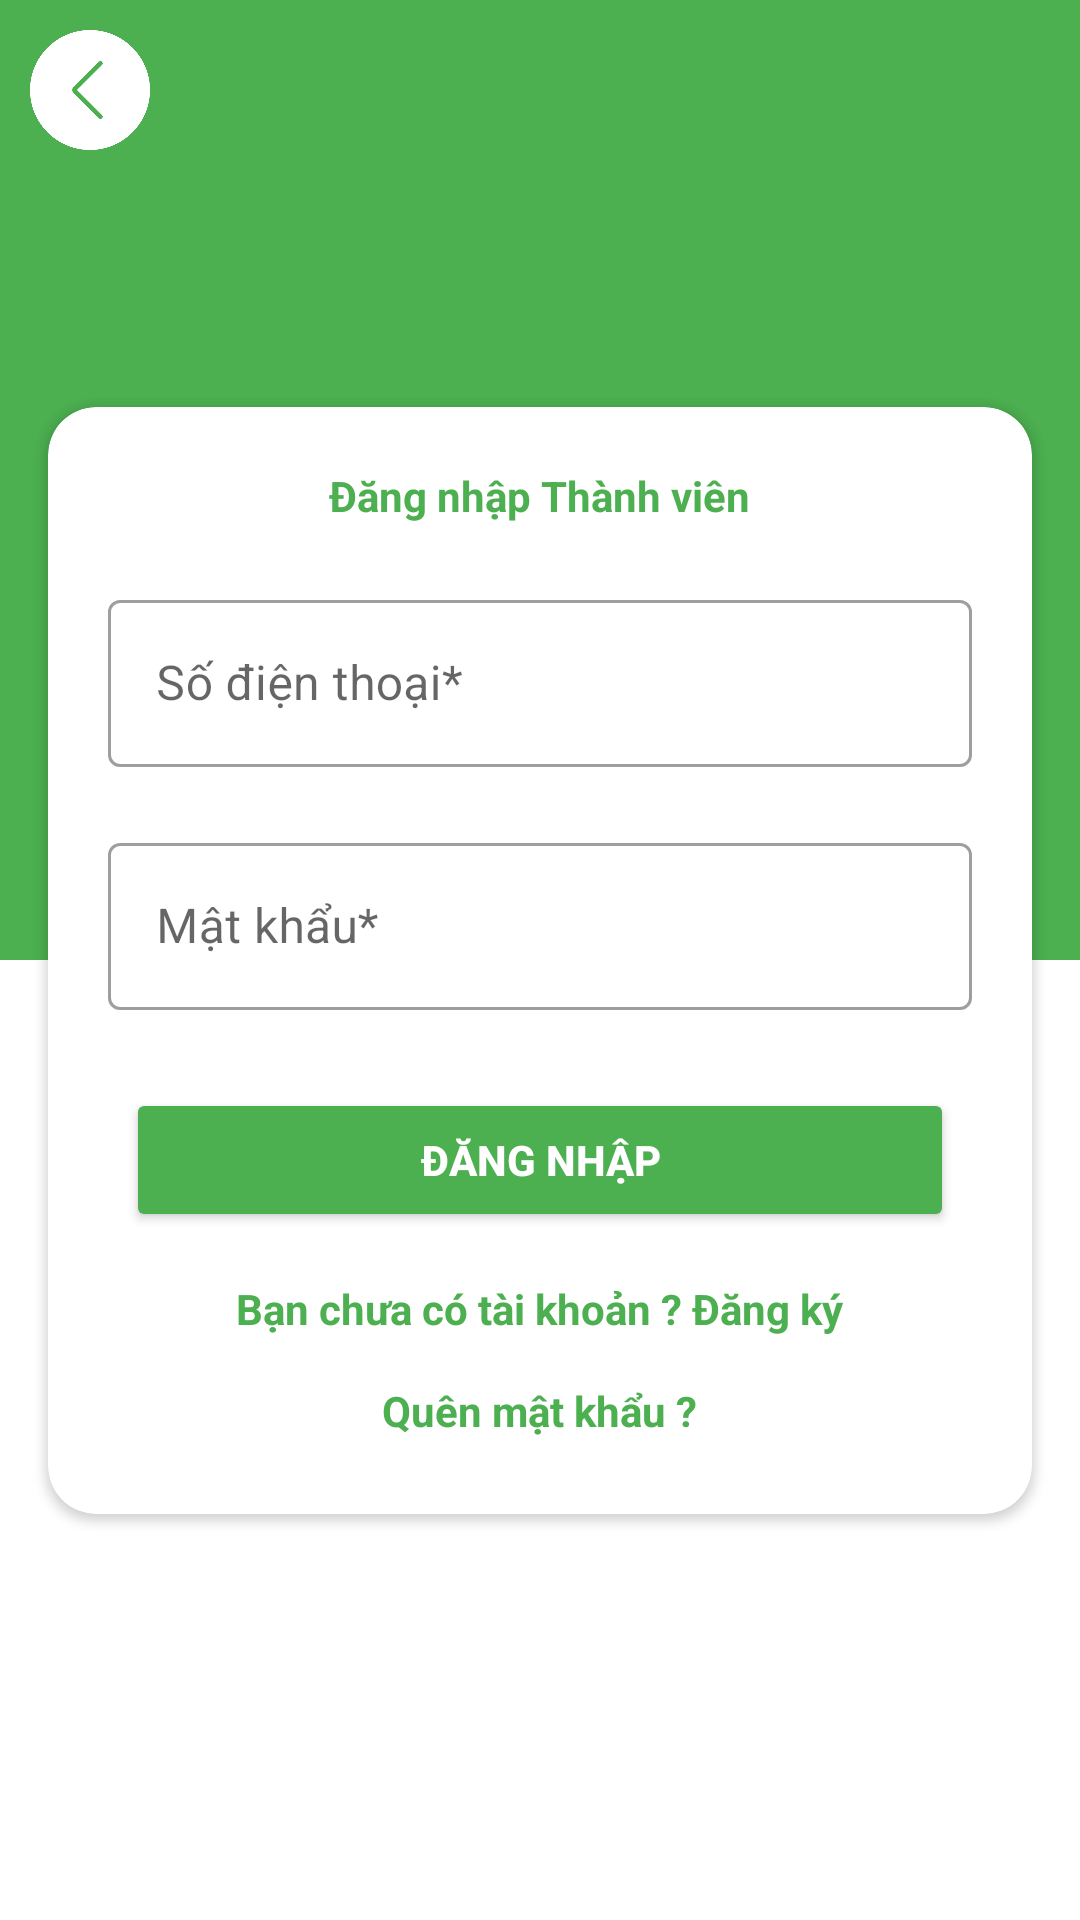

Where to tap for icons on this 1080×1920 app screen, as (x,y):
back arrow: (90,90)
